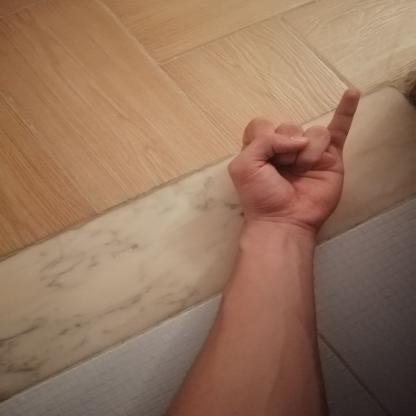MEEM: (208, 77, 381, 240)
